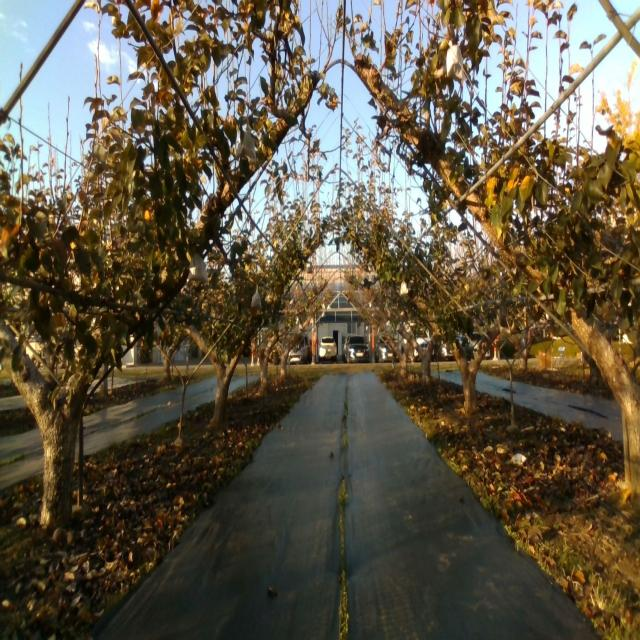pearbags: (446, 41, 465, 82), (236, 131, 256, 164), (188, 253, 208, 283), (251, 288, 261, 310)
